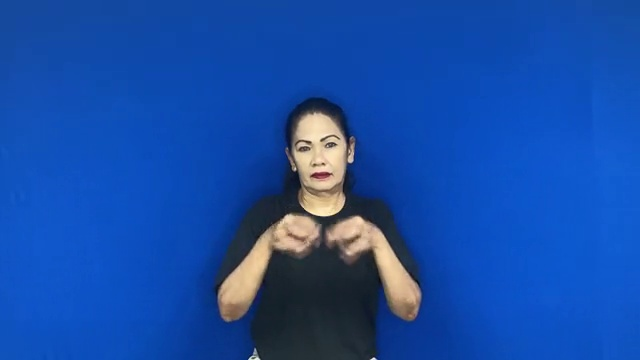egg: (258, 203, 381, 269)
